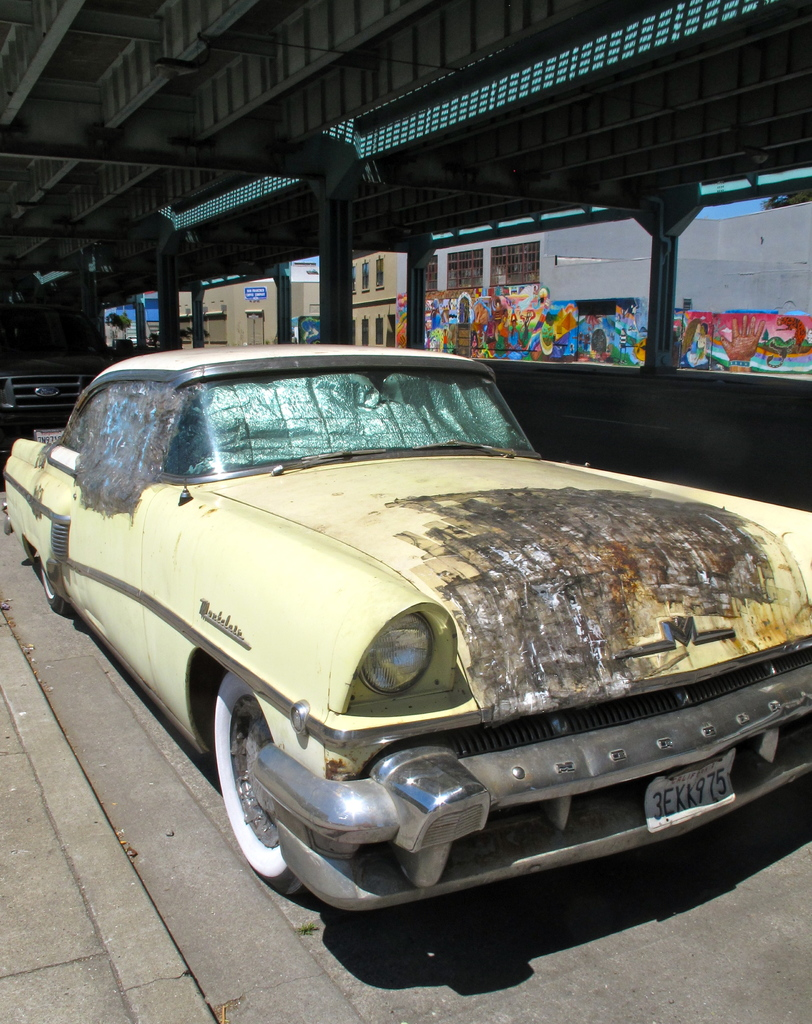Car: (0, 339, 811, 924)
